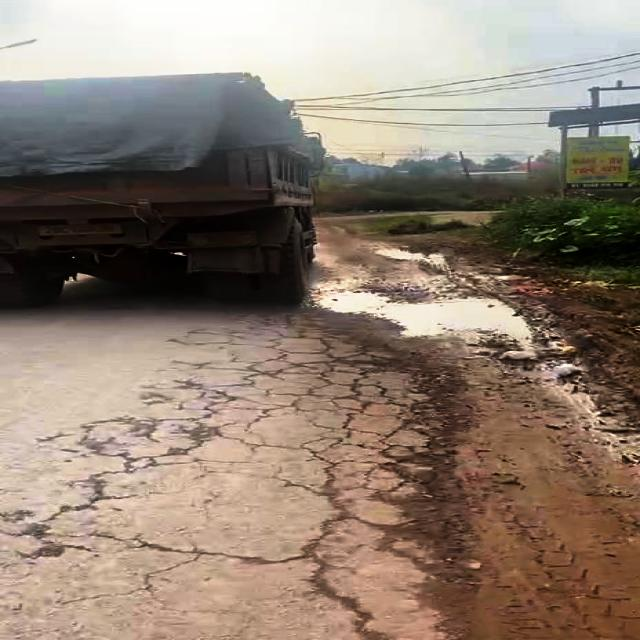pothole: (301, 287, 524, 343)
